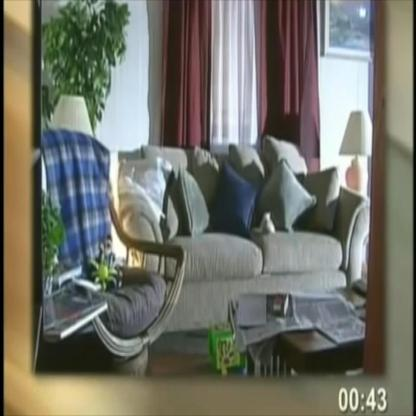fire: (107, 155, 142, 269)
